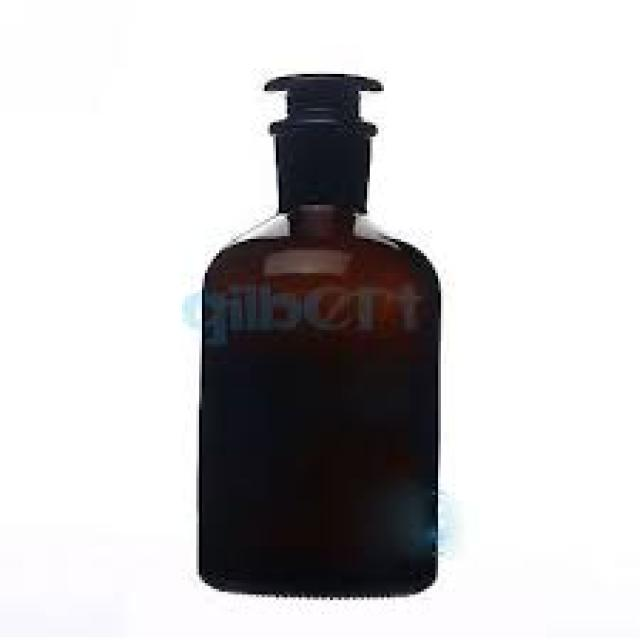glass: (196, 71, 435, 595)
